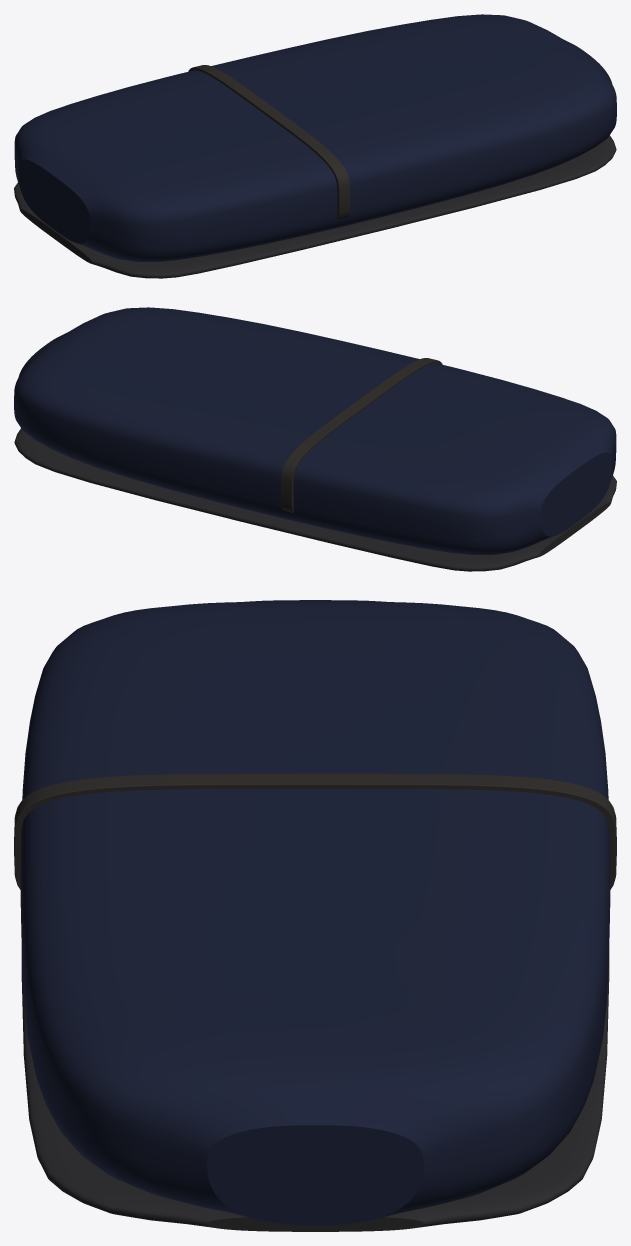
The model's file is bike_step_through__seat.glb.
3 views of the same model, one above another, from view 1: azimuth 30°, elevation 25°; view 2: azimuth 150°, elevation 25°; view 3: azimuth 270°, elevation 25° (orthographic). The views are drawn at different scales.
Parts seen in each view (by area): view 1: frame_body__seat, frame_body__seat__base, frame_body__seat__strap; view 2: frame_body__seat, frame_body__seat__base, frame_body__seat__strap; view 3: frame_body__seat, frame_body__seat__base, frame_body__seat__strap.
Boxes of the visible parts, box(x1,y1,x2,y2) form: frame_body__seat: box(14, 14, 616, 261); frame_body__seat__base: box(14, 135, 616, 278); frame_body__seat__strap: box(188, 65, 350, 219); frame_body__seat: box(14, 307, 616, 554); frame_body__seat__base: box(14, 428, 616, 571); frame_body__seat__strap: box(280, 358, 442, 512); frame_body__seat: box(20, 600, 610, 1225); frame_body__seat__base: box(21, 950, 609, 1231); frame_body__seat__strap: box(14, 773, 616, 889).
Bounding box in the file's own units: 56 × 8.01 × 27.8.
